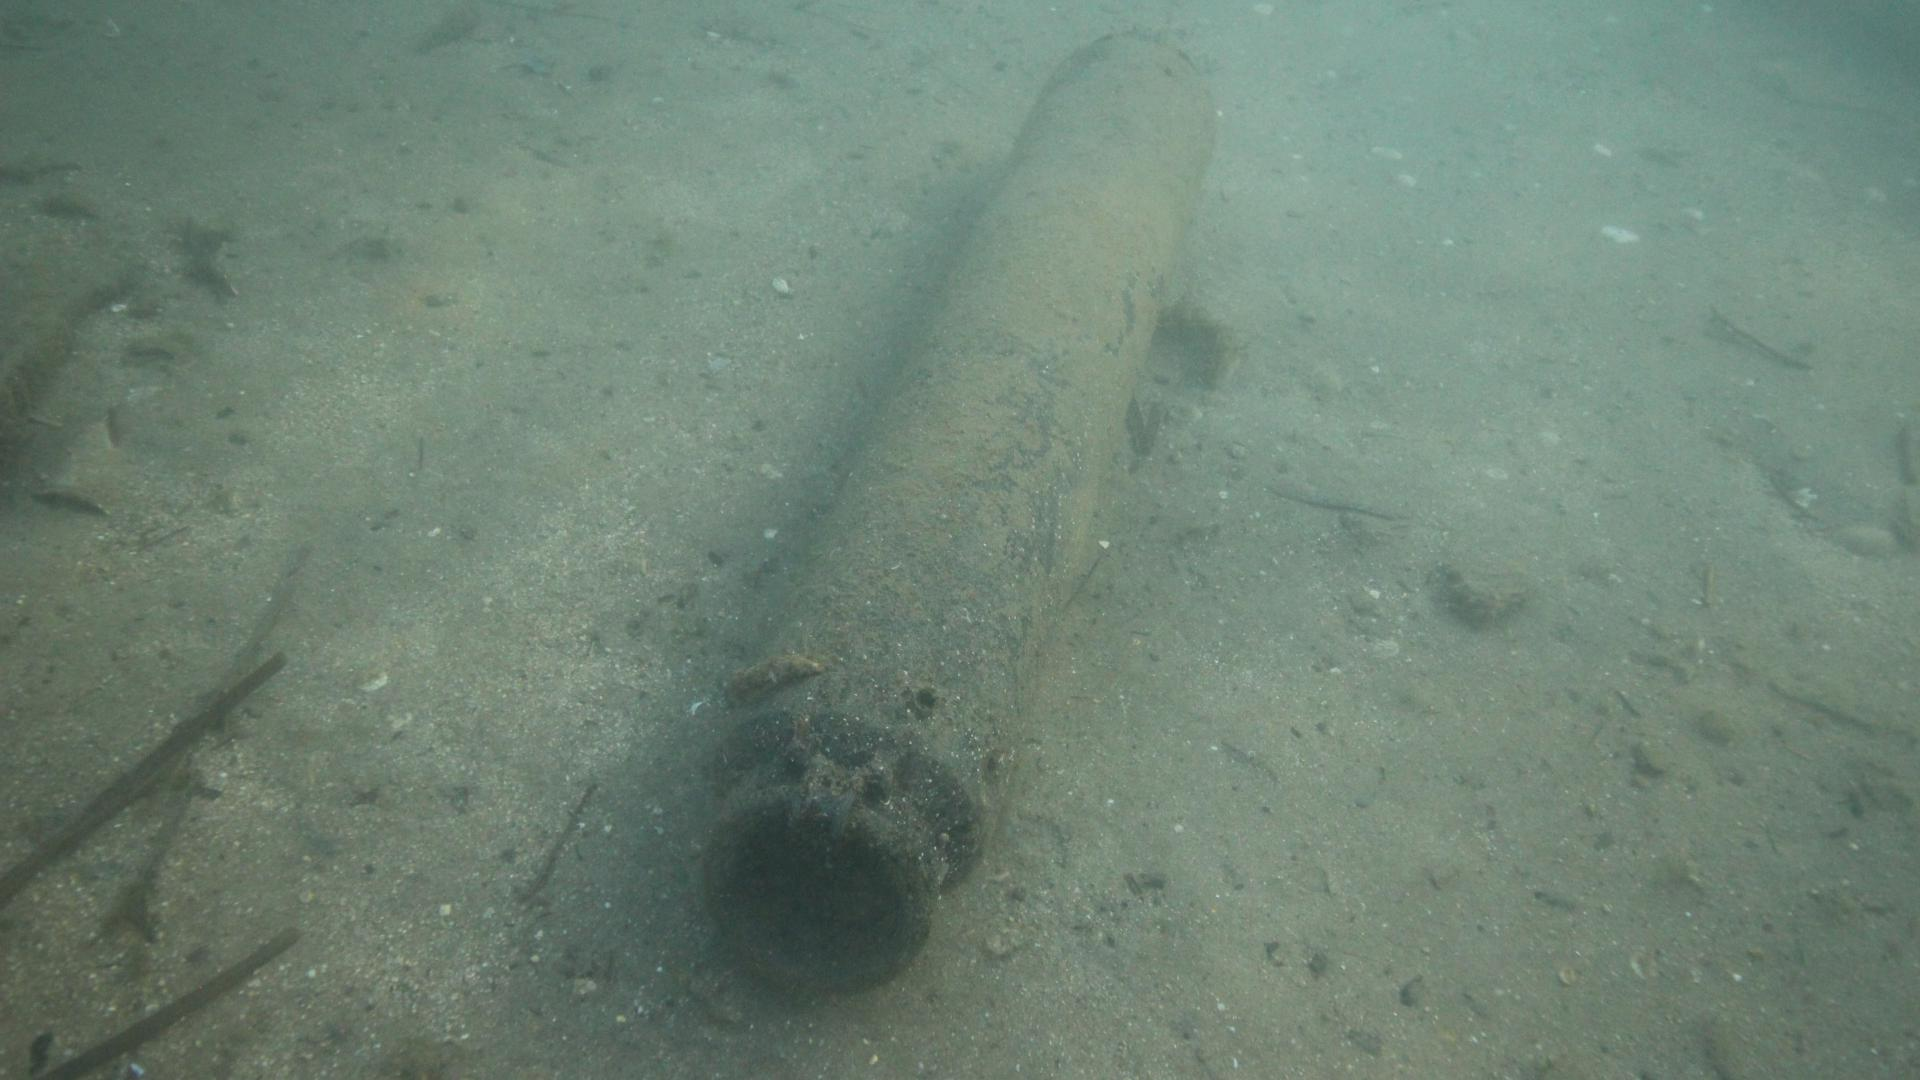eel fish trap: (704, 29, 1218, 1002)
